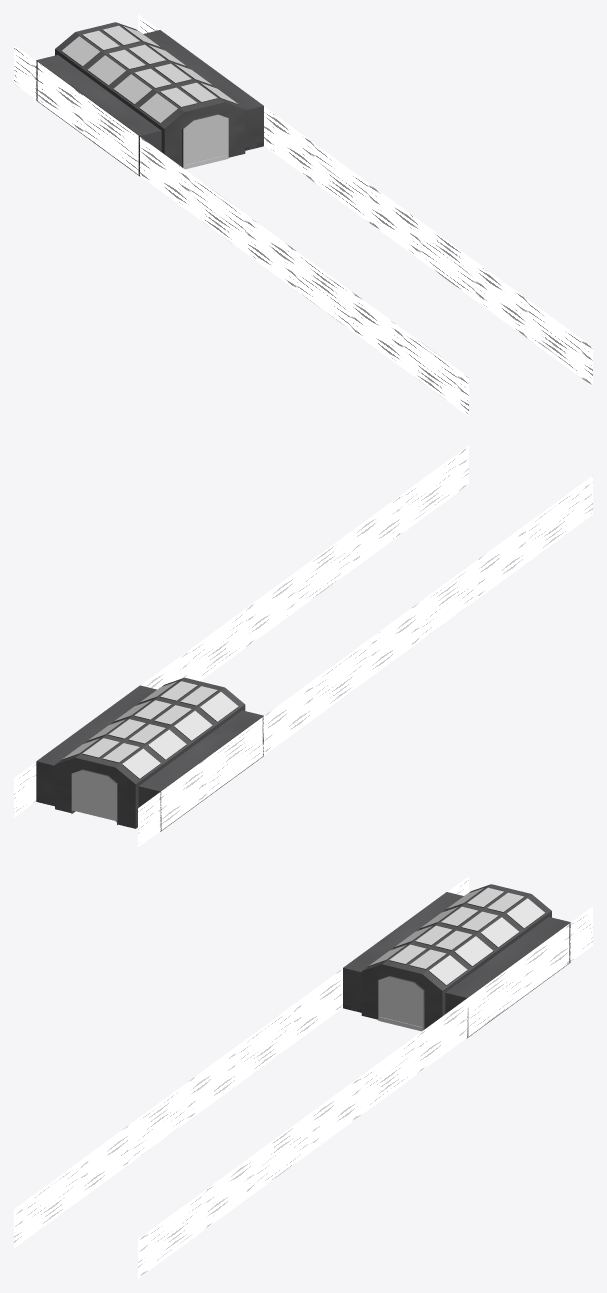
File: Catwalk.fbx
3 views of the same model, one above another, from view 1: azimuth 30°, elevation 25°; view 2: azimuth 150°, elevation 25°; view 3: azimuth 330°, elevation 25° (orthographic).
Parts seen in each view (by area): view 1: Dynamic Wall, Catwalk; view 2: Dynamic Wall, Catwalk; view 3: Dynamic Wall, Catwalk.
Boxes of the visible parts, x1,y1,x2,y2 form: Dynamic Wall: (14, 14, 592, 416); Catwalk: (36, 22, 263, 176); Dynamic Wall: (14, 445, 592, 847); Catwalk: (36, 677, 263, 831); Dynamic Wall: (14, 876, 592, 1278); Catwalk: (343, 884, 570, 1038).
Size of the model in its own units: 933 by 412 by 5936.
5 materials, 1 textured.
